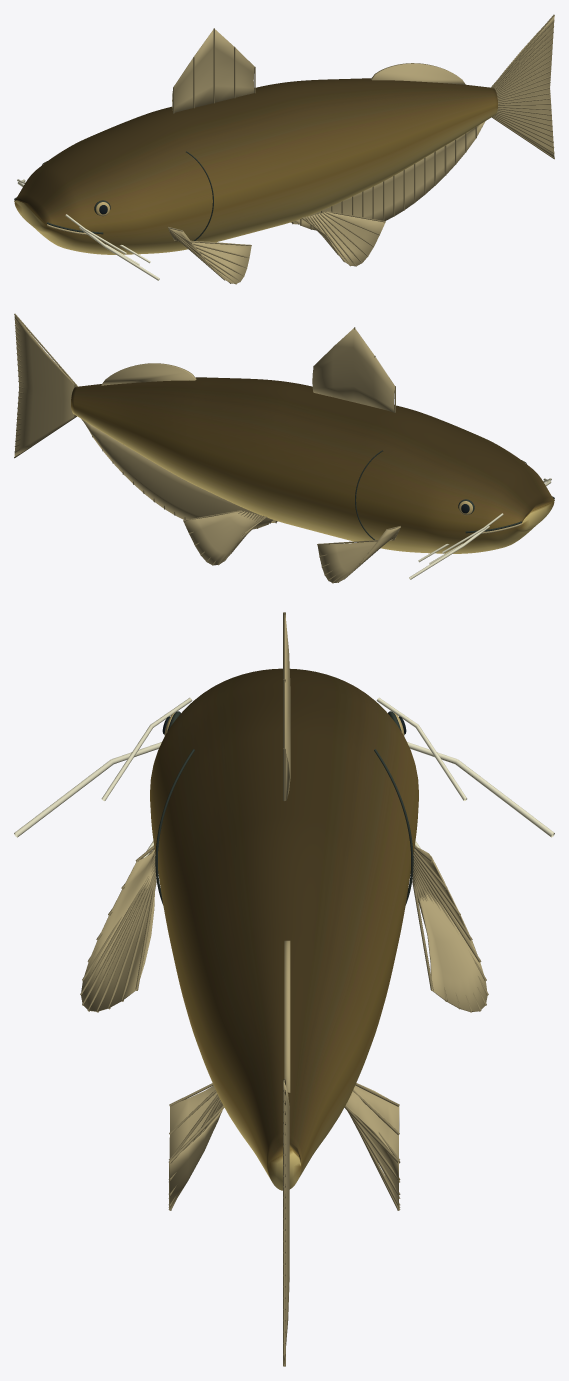
The model's file is yellow-bullhead.glb.
The picture shows the model from 3 angles, top to bottom: view 1: azimuth 30°, elevation 25°; view 2: azimuth 150°, elevation 25°; view 3: azimuth 270°, elevation 25°; orthographic projection. The views are drawn at different scales.
Parts seen in each view (by area): view 1: yellow-bullhead specimen; view 2: yellow-bullhead specimen; view 3: yellow-bullhead specimen.
Part boxes in pixels (x1,y1,x2,y2): yellow-bullhead specimen: [14, 14, 554, 284]; yellow-bullhead specimen: [14, 313, 554, 583]; yellow-bullhead specimen: [14, 612, 554, 1366].
Size of the model in its own units: 2.06 by 0.919 by 0.9262.
Materials: 9 (1 with a texture image).
